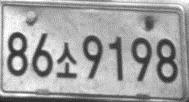1: (107, 34, 124, 82)
6: (30, 31, 53, 77)
8: (155, 38, 179, 84), (5, 31, 28, 76)
9: (80, 34, 104, 80), (130, 36, 153, 82)
소: (55, 42, 78, 80)
